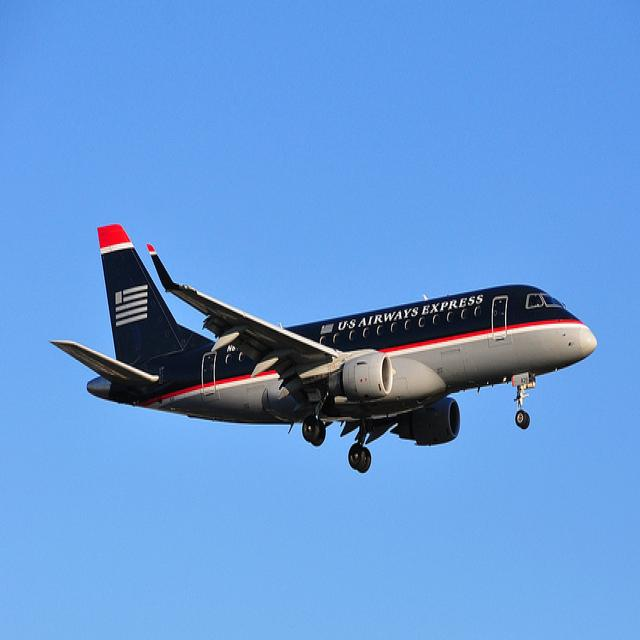airplane: (48, 221, 600, 475)
